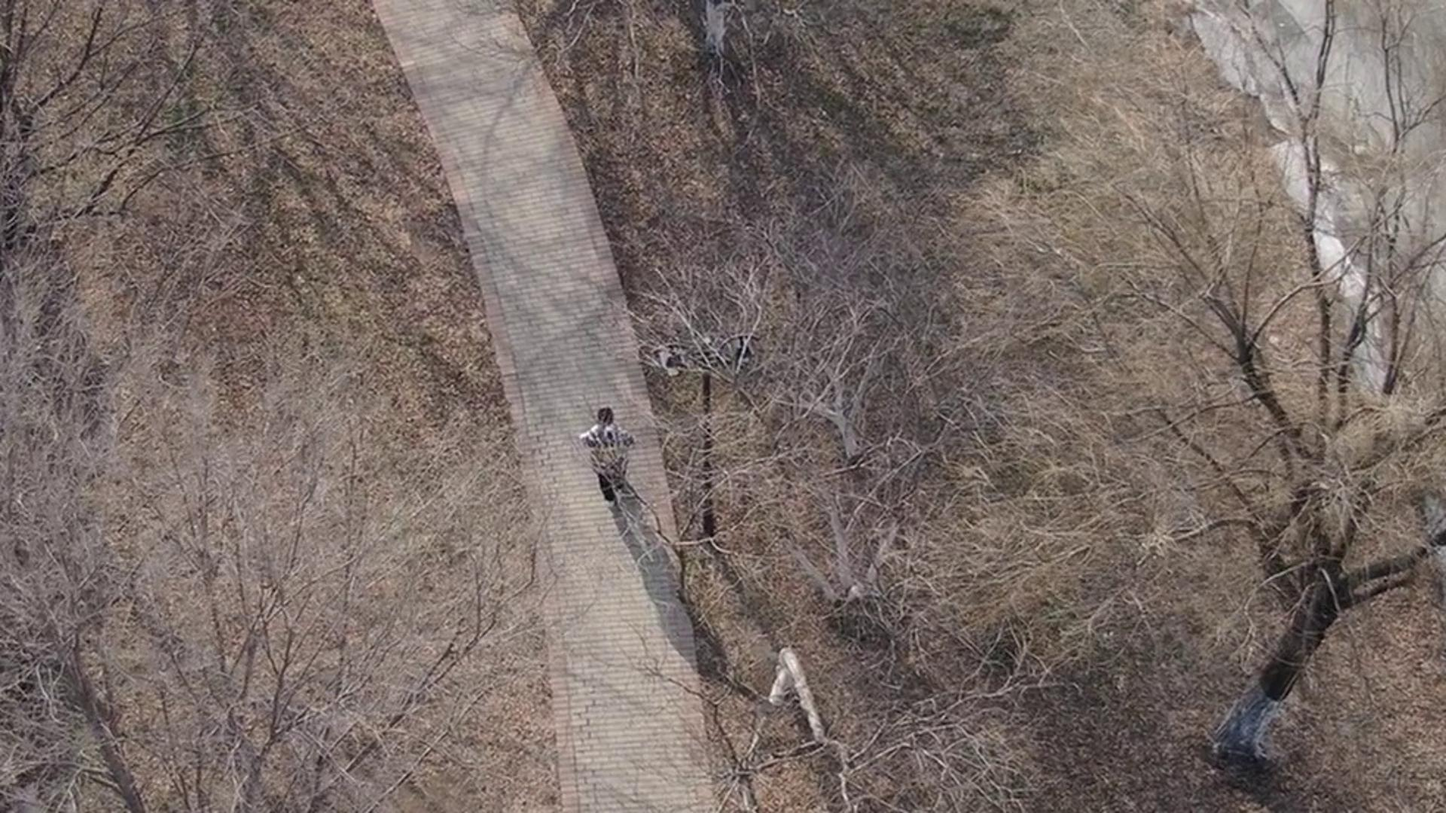human: (560, 403, 599, 486)
